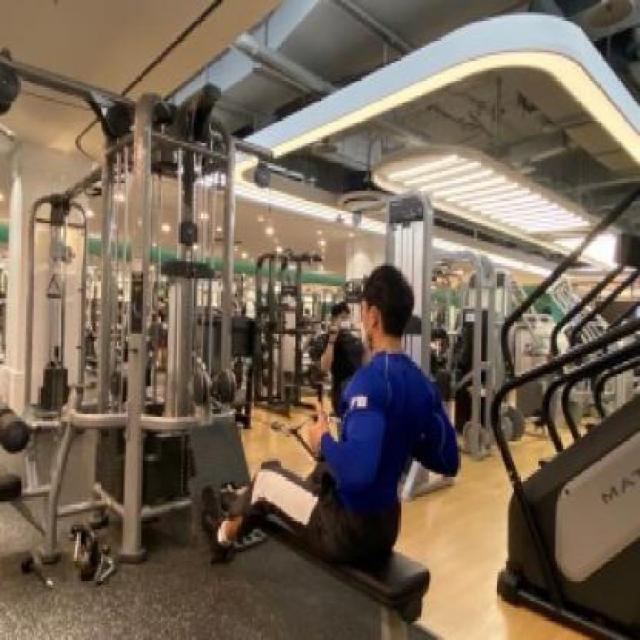Seated Cable Rows: (37, 95, 491, 640)
